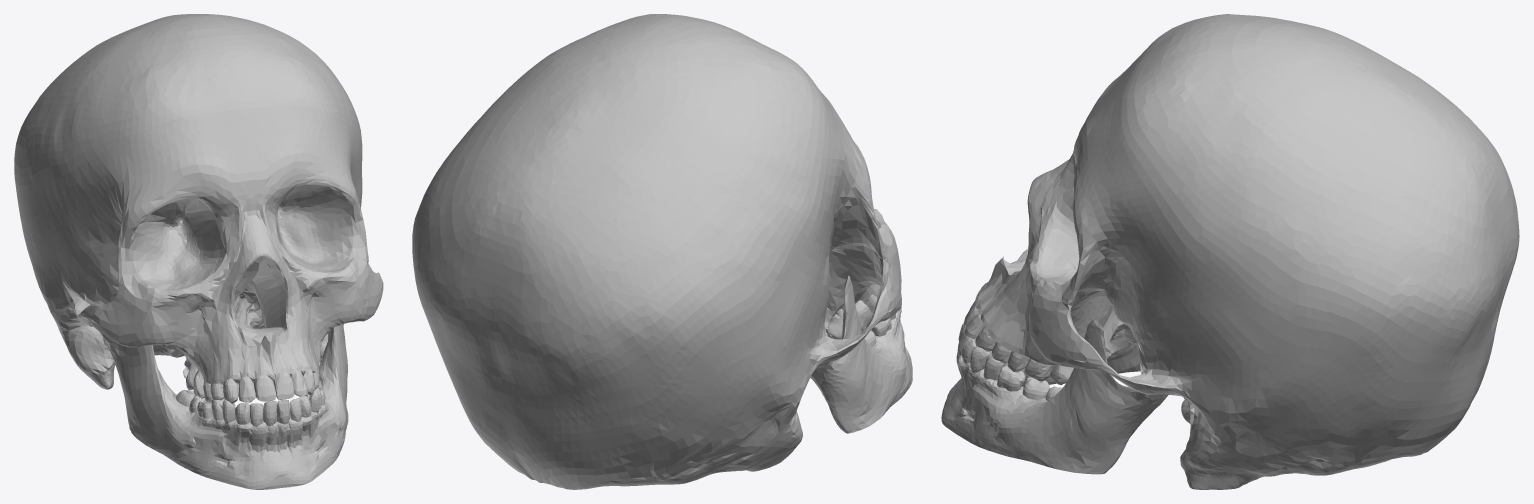
Rendered from realistic_skull.glb.
The picture shows the model from 3 angles, left to right: view 1: azimuth 30°, elevation 25°; view 2: azimuth 150°, elevation 25°; view 3: azimuth 270°, elevation 25°; orthographic projection. The views are drawn at different scales.
Visible parts, largest first — view 1: node_id4; view 2: node_id4; view 3: node_id4.
Boxes of the visible parts, bbox=[...] form: node_id4: bbox=[14, 14, 383, 489]; node_id4: bbox=[412, 14, 912, 489]; node_id4: bbox=[941, 14, 1519, 489].
Bounding box in the file's own units: 0.3725 × 0.3919 × 0.5041.
Materials: 1 (1 with a texture image).
